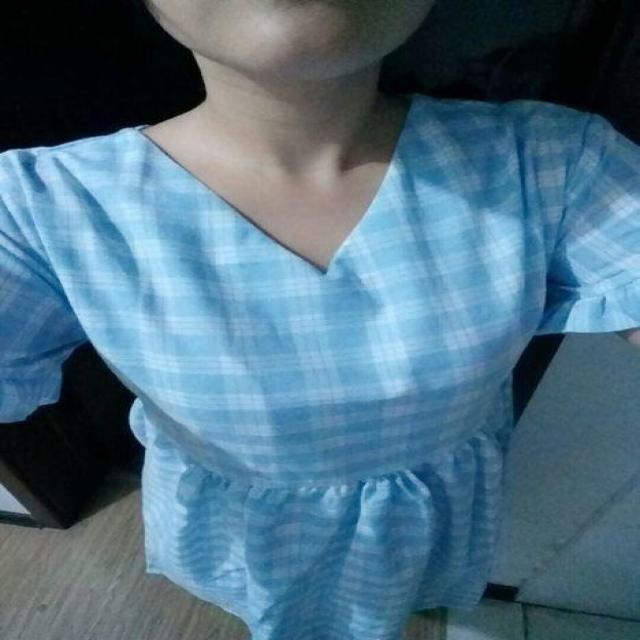short sleeve dress: (3, 99, 637, 637)
